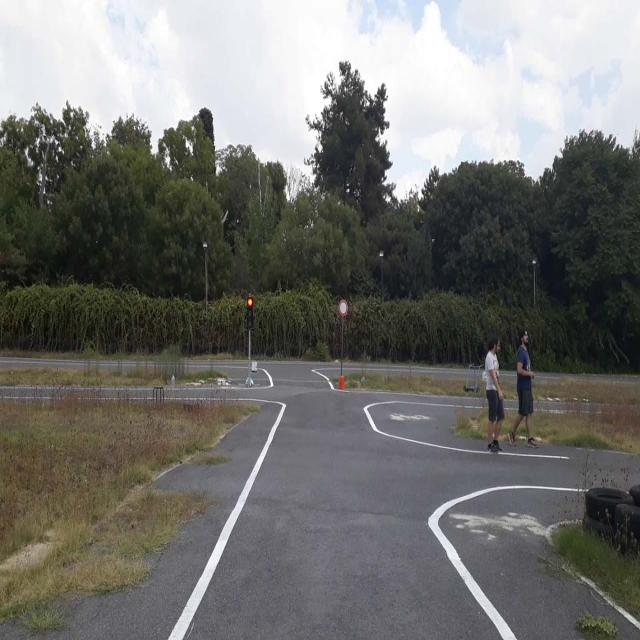kirmizi: (247, 296, 253, 328)
